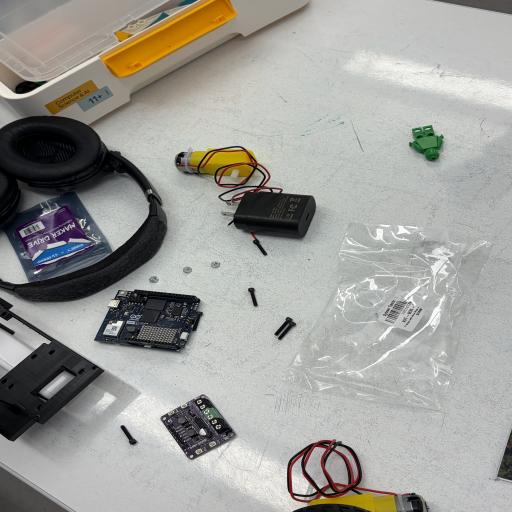Green-Lego: (409, 125, 443, 161)
